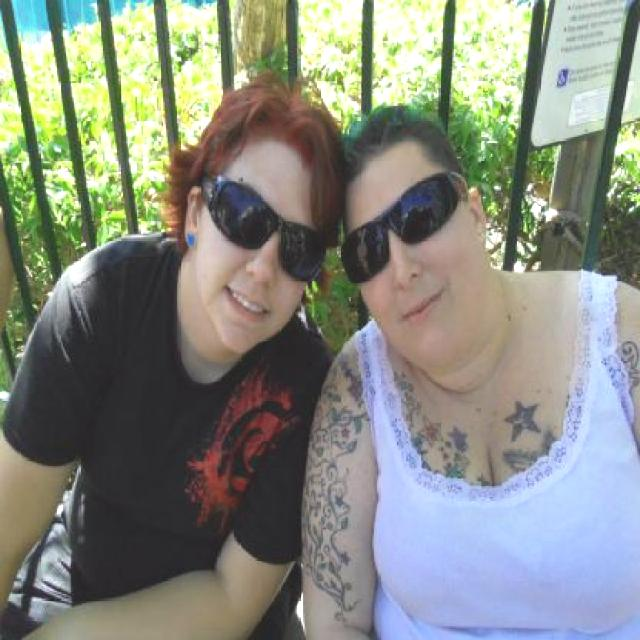face_nomask: (345, 186, 464, 326), (210, 184, 315, 327)
glasses: (204, 170, 325, 282), (342, 178, 455, 276)
head_nohelmet: (195, 73, 336, 170), (327, 108, 445, 192)
person: (0, 78, 332, 639), (309, 89, 640, 640)
